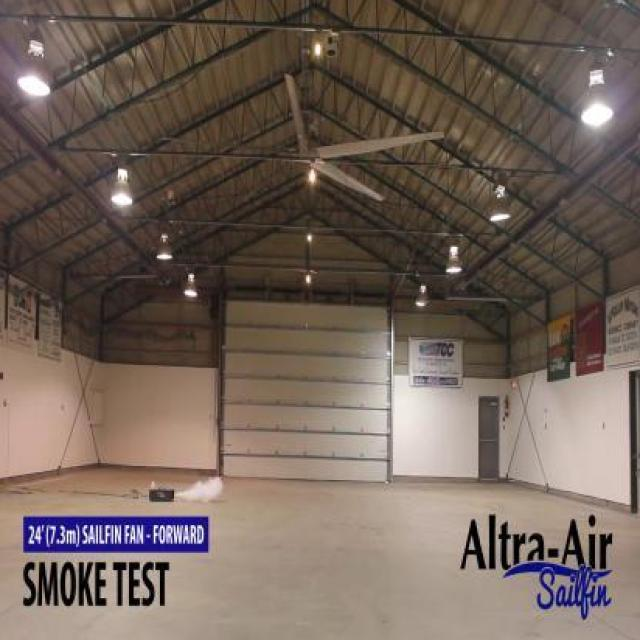fire: (178, 472, 231, 507)
